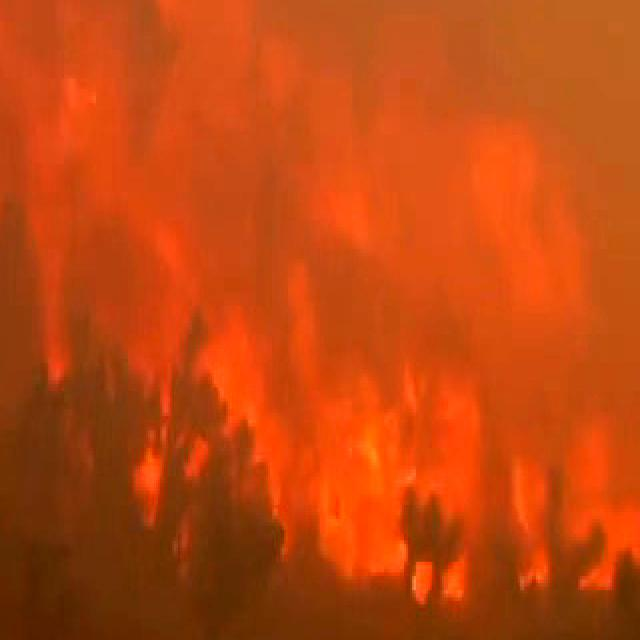fire: (136, 263, 640, 640)
smoke: (304, 0, 640, 89)
